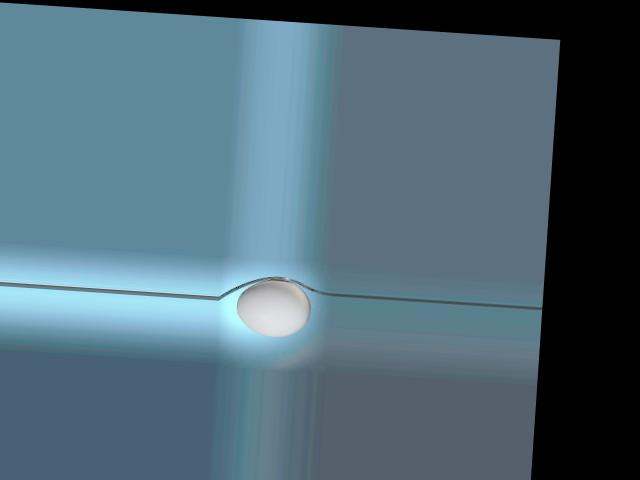egg: (235, 277, 312, 338)
